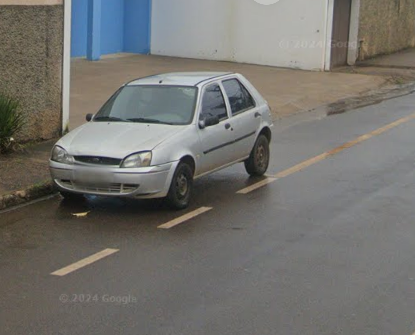car: (46, 68, 279, 214)
